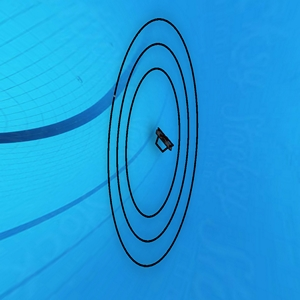circle: (109, 16, 196, 262)
submarine: (154, 127, 175, 153)
